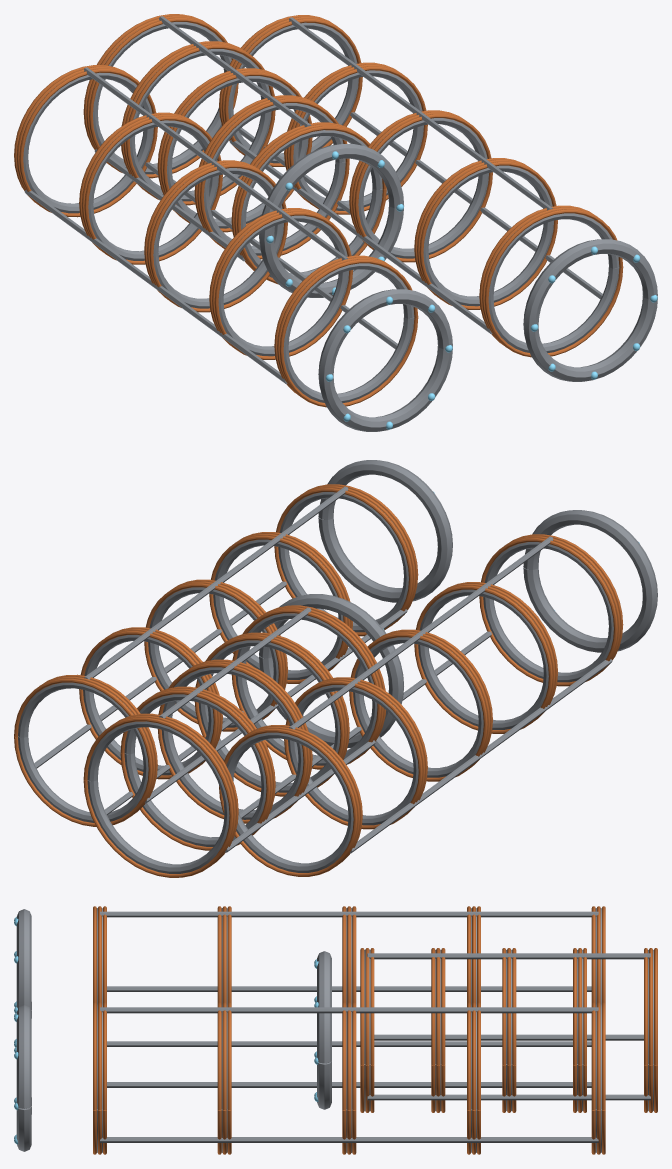
File: wraith_engine_ep.fbx
The picture shows the model from 3 angles, top to bottom: view 1: azimuth 30°, elevation 25°; view 2: azimuth 150°, elevation 25°; view 3: azimuth 270°, elevation 25°; orthographic projection. The views are drawn at different scales.
Parts seen in each view (by area): view 1: Engine_Coils; view 2: Engine_Coils; view 3: Engine_Coils.
Boxes of the visible parts, x1,y1,x2,y2 form: Engine_Coils: (14, 14, 657, 431); Engine_Coils: (14, 460, 657, 877); Engine_Coils: (14, 906, 657, 1154).
Bounding box in the file's own units: 151 × 66.34 × 256.
